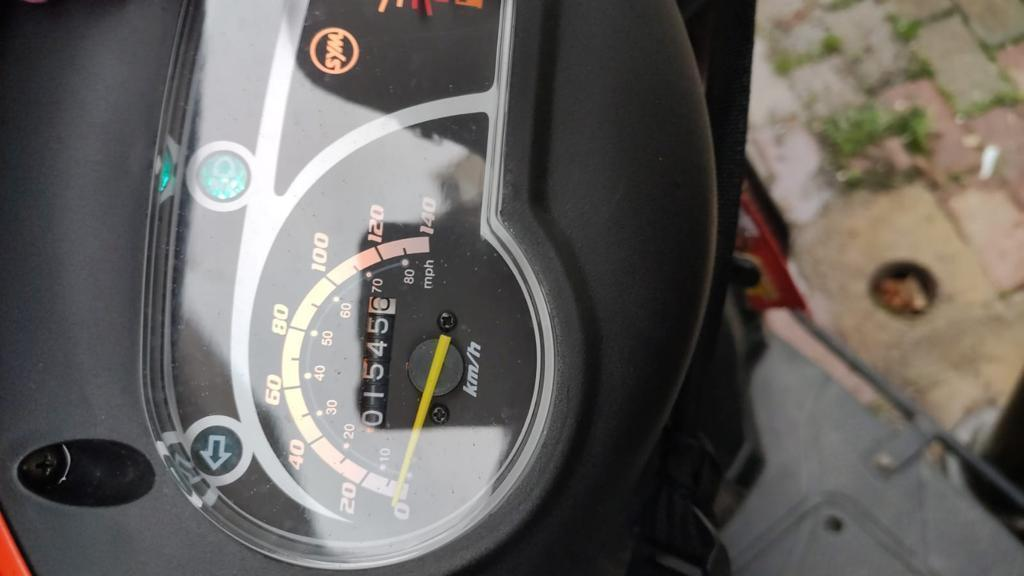0: (360, 408, 386, 428)
1: (361, 391, 390, 400)
4: (365, 338, 389, 356)
5: (361, 359, 387, 381), (364, 317, 389, 335)
6: (367, 295, 392, 311)
odometer: (358, 293, 399, 433)
